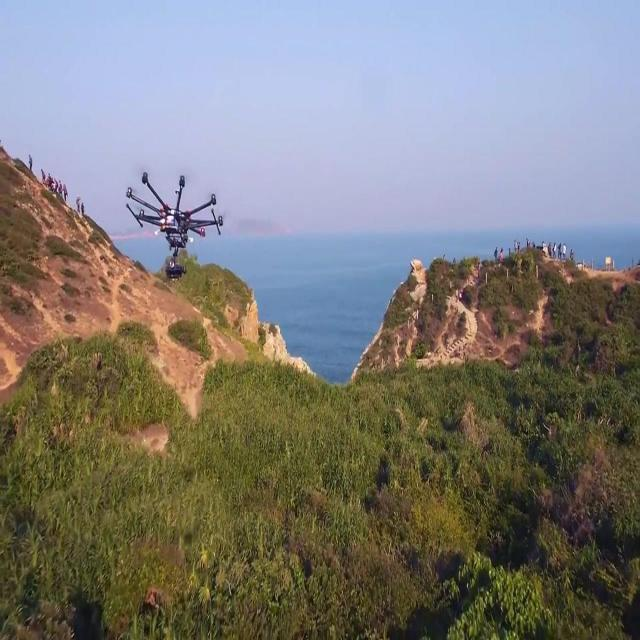UAV: (126, 172, 224, 278)
